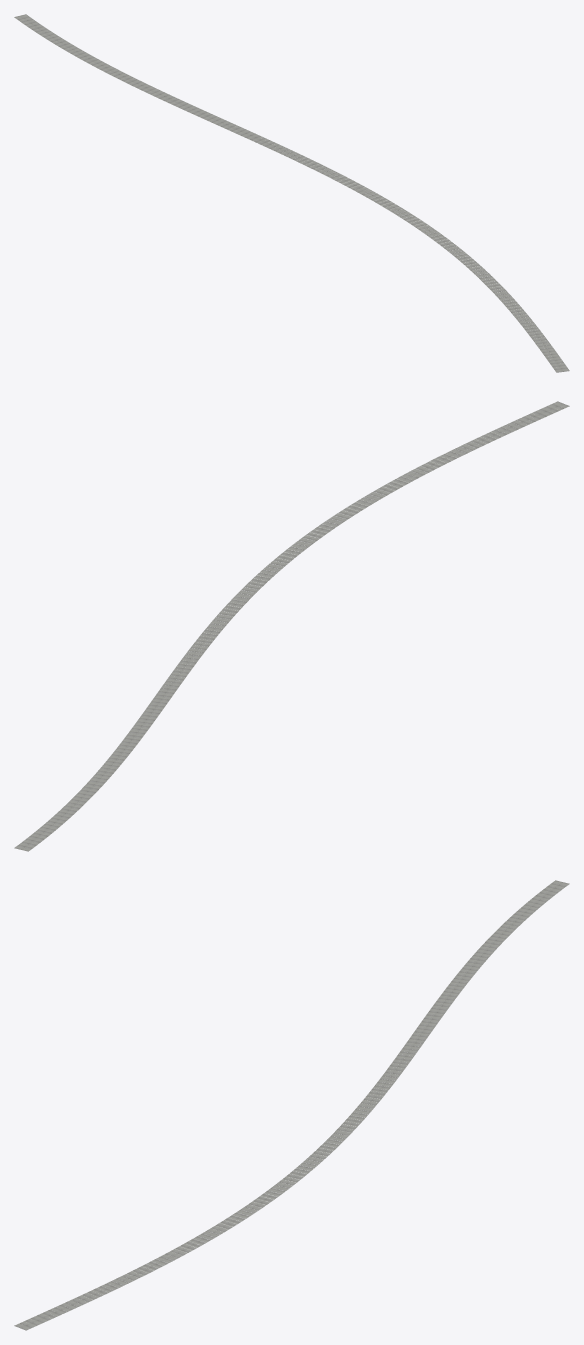
File: farm_sidewalk_right.dae
The picture shows the model from 3 angles, top to bottom: view 1: azimuth 30°, elevation 25°; view 2: azimuth 150°, elevation 25°; view 3: azimuth 330°, elevation 25°; orthographic projection. The views are drawn at different scales.
Visible parts, largest first — view 1: farm_sidewalk_right_node; view 2: farm_sidewalk_right_node; view 3: farm_sidewalk_right_node.
Boxes of the visible parts, x1,y1,x2,y2 form: farm_sidewalk_right_node: (14,14,569,372); farm_sidewalk_right_node: (14,401,569,851); farm_sidewalk_right_node: (14,880,569,1330).
Size of the model in its own units: 13.7 by 121 by 0.
Materials: 1 (1 with a texture image).
